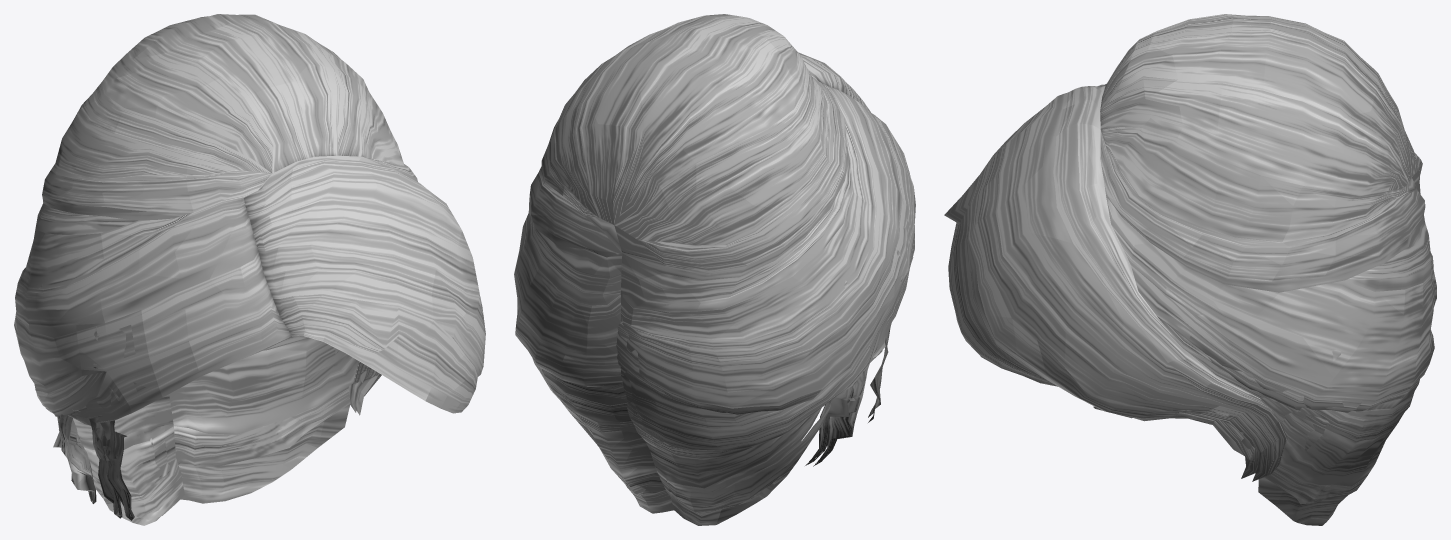
Rendered from hair_braid01.glb.
3 renders of one model, left to right at view 1: azimuth 30°, elevation 25°; view 2: azimuth 150°, elevation 25°; view 3: azimuth 270°, elevation 25°, orthographic. The views are drawn at different scales.
Parts seen in each view (by area): view 1: hair_braid01; view 2: hair_braid01; view 3: hair_braid01.
Part boxes in pixels (bbox=[...]): hair_braid01: bbox=[14, 14, 485, 525]; hair_braid01: bbox=[514, 14, 915, 525]; hair_braid01: bbox=[944, 14, 1436, 525].
Bounding box in the file's own units: 0.171 × 0.2275 × 0.208.
Materials: 1 (1 with a texture image).
